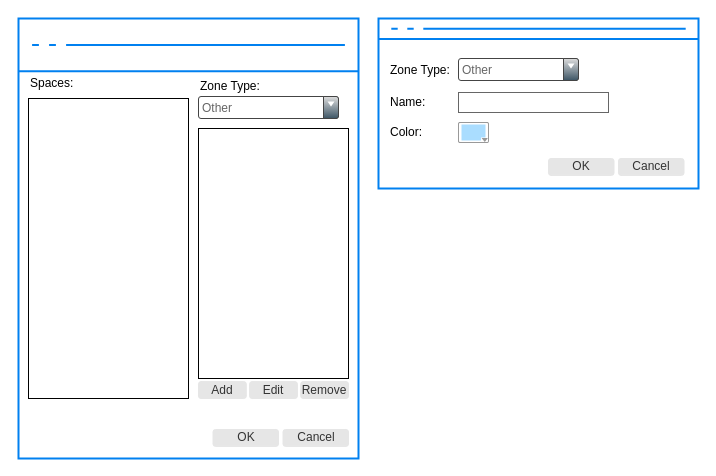
This 716x476 diagram has some shape labels left out. Each missing label, with the centre of its shape:
Cell 1.1 Cell 1.2: the point at 108,248
Zone 1 Zone 2 Zone 3: the point at 273,253
Zone name: the point at 533,102
